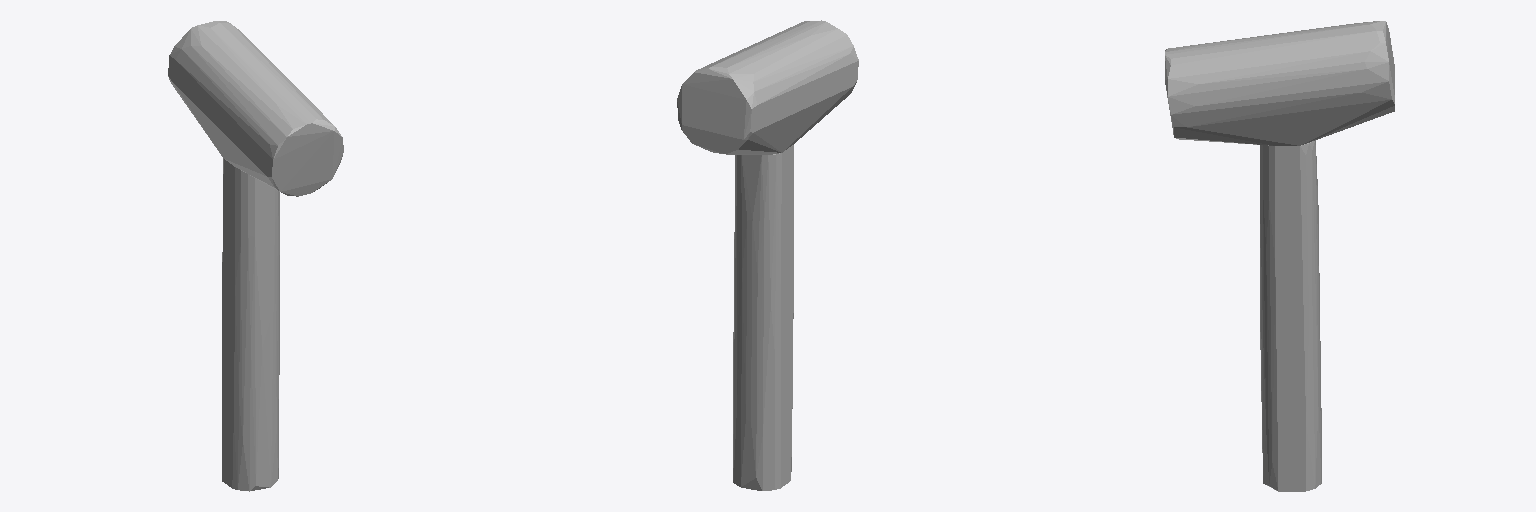
URDF robot description (root):
<robot name="root">
  <link name="link_5c5a9db9d4ff156a1de495b75c95e5ad_convex_piece_0">
    <inertial>
      <origin rpy="0 0 0" xyz="0 0 0"/>
      <mass value="6.41E-06"/>
      <inertia ixx="1.99E-09" ixy="-1.31E-12" ixz="1.56E-11" iyy="1.96E-09" iyz="-2.59E-10" izz="1.30E-10"/>
    </inertial>
    <visual>
      <origin rpy="0 0 0" xyz="0 0 0"/>
      <geometry>
        <mesh filename="5c5a9db9d4ff156a1de495b75c95e5ad_convex_piece_0.obj" scale="1.0000E+00"/>
      </geometry>
      <material name="">
        <color rgba="7.50E-01 7.50E-01 7.50E-01 1"/>
      </material>
    </visual>
    <collision>
      <origin rpy="0 0 0" xyz="0 0 0"/>
      <geometry>
        <mesh filename="5c5a9db9d4ff156a1de495b75c95e5ad_convex_piece_0.obj" scale="1.0000E+00"/>
      </geometry>
    </collision>
  </link>
  <link name="link_5c5a9db9d4ff156a1de495b75c95e5ad_convex_piece_1">
    <inertial>
      <origin rpy="0 0 0" xyz="0 0 0"/>
      <mass value="9.83E-06"/>
      <inertia ixx="1.19E-08" ixy="5.25E-13" ixz="9.75E-12" iyy="1.06E-08" iyz="1.25E-10" izz="1.67E-09"/>
    </inertial>
    <visual>
      <origin rpy="0 0 0" xyz="0 0 0"/>
      <geometry>
        <mesh filename="5c5a9db9d4ff156a1de495b75c95e5ad_convex_piece_1.obj" scale="1.0000E+00"/>
      </geometry>
      <material name="">
        <color rgba="7.50E-01 7.50E-01 7.50E-01 1"/>
      </material>
    </visual>
    <collision>
      <origin rpy="0 0 0" xyz="0 0 0"/>
      <geometry>
        <mesh filename="5c5a9db9d4ff156a1de495b75c95e5ad_convex_piece_1.obj" scale="1.0000E+00"/>
      </geometry>
    </collision>
  </link>
  <joint name="link_5c5a9db9d4ff156a1de495b75c95e5ad_convex_piece_1_joint" type="fixed">
    <origin rpy="0 0 0" xyz="0 0 0"/>
    <parent link="link_5c5a9db9d4ff156a1de495b75c95e5ad_convex_piece_0"/>
    <child link="link_5c5a9db9d4ff156a1de495b75c95e5ad_convex_piece_1"/>
  </joint>
</robot>

--- What the picture shows (computed from the rendered views, not written in the file) ---
The picture shows the robot from 3 angles, left to right: view 1: azimuth 30°, elevation 25°; view 2: azimuth 150°, elevation 25°; view 3: azimuth 270°, elevation 25°; orthographic projection.
Model root with 2 links and 1 joints (1 fixed), rooted at link_5c5a9db9d4ff156a1de495b75c95e5ad_convex_piece_0, posed every joint at zero.
Visible links, largest first — view 1: link_5c5a9db9d4ff156a1de495b75c95e5ad_convex_piece_0, link_5c5a9db9d4ff156a1de495b75c95e5ad_convex_piece_1; view 2: link_5c5a9db9d4ff156a1de495b75c95e5ad_convex_piece_0, link_5c5a9db9d4ff156a1de495b75c95e5ad_convex_piece_1; view 3: link_5c5a9db9d4ff156a1de495b75c95e5ad_convex_piece_1, link_5c5a9db9d4ff156a1de495b75c95e5ad_convex_piece_0.
Boxes of the visible links, <box> form: link_5c5a9db9d4ff156a1de495b75c95e5ad_convex_piece_0: <box>222,158,279,491</box>; link_5c5a9db9d4ff156a1de495b75c95e5ad_convex_piece_1: <box>168,21,343,196</box>; link_5c5a9db9d4ff156a1de495b75c95e5ad_convex_piece_0: <box>733,145,793,490</box>; link_5c5a9db9d4ff156a1de495b75c95e5ad_convex_piece_1: <box>677,20,858,154</box>; link_5c5a9db9d4ff156a1de495b75c95e5ad_convex_piece_1: <box>1165,21,1394,145</box>; link_5c5a9db9d4ff156a1de495b75c95e5ad_convex_piece_0: <box>1260,140,1321,491</box>.
Bounding box of the posed robot: 0.0175 × 0.0453 × 0.0985 m (x, y, z).
Meshes: 2 distinct files referenced, 2 mesh visuals loaded (2 OBJ).